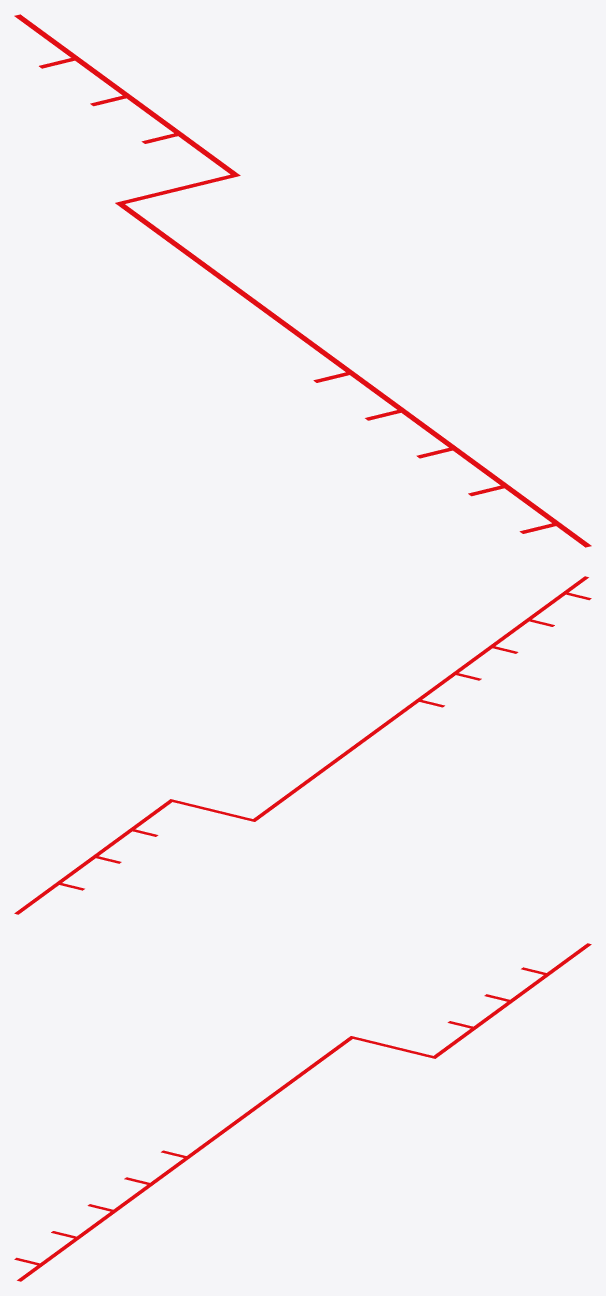
Rendered from DemoPath3.glb.
3 views of the same model, one above another, from view 1: azimuth 30°, elevation 25°; view 2: azimuth 150°, elevation 25°; view 3: azimuth 330°, elevation 25° (orthographic). The views are drawn at different scales.
Parts seen in each view (by area): view 1: DemoPath3; view 2: DemoPath3; view 3: DemoPath3.
Boxes of the visible parts, left/top/right/bottom form: DemoPath3: left=14, top=14, right=591, bottom=547; DemoPath3: left=14, top=576, right=591, bottom=914; DemoPath3: left=14, top=943, right=591, bottom=1281.
Bounding box in the file's own units: 9.57 × 0 × 73.31.
